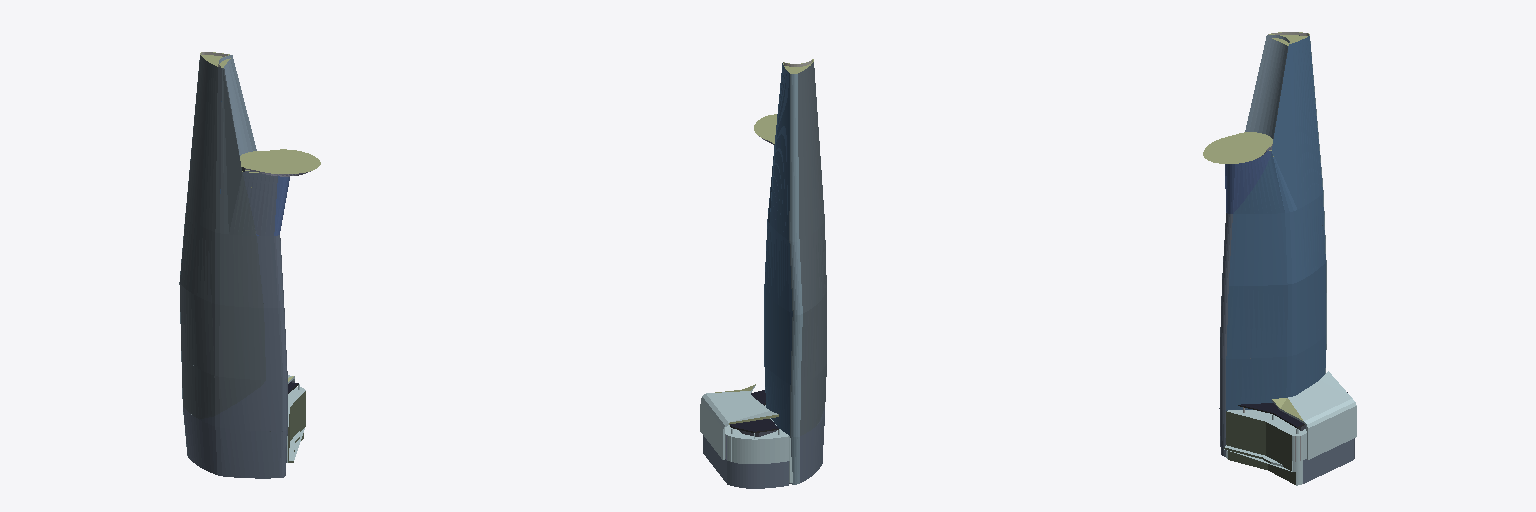
The model's file is New+Bitexco.obj.
3 renders of one model, left to right at view 1: azimuth 30°, elevation 25°; view 2: azimuth 150°, elevation 25°; view 3: azimuth 270°, elevation 25°, orthographic.
Parts seen in each view (by area): view 1: Mesh7 G_7_3_1 Bitexco_Financial_Tower1 Model, Mesh8 G_8_2_1 Bitexco_Financial_Tower1 Model, Mesh11 G_3_1_1 Bitexco_Financial_Tower1 Model, Mesh4 G_4_1_1 Bitexco_Financial_Tower1 Model, Mesh14 G_2_1 Bitexco_Financial_Tower1 Model; view 2: Mesh7 G_7_3_1 Bitexco_Financial_Tower1 Model, Mesh14 G_2_1 Bitexco_Financial_Tower1 Model, Mesh9 G_10_2_1 Bitexco_Financial_Tower1 Model, Mesh6 G_9_2_1 Bitexco_Financial_Tower1 Model, Mesh2 G_6_1_1 Bitexco_Financial_Tower1 Model, Mesh1 G_1_1_1 Bitexco_Financial_Tower1 Model, Mesh8 G_8_2_1 Bitexco_Financial_Tower1 Model, Mesh17 G_2_1 Bitexco_Financial_Tower1 Model; view 3: Mesh6 G_9_2_1 Bitexco_Financial_Tower1 Model, Mesh14 G_2_1 Bitexco_Financial_Tower1 Model, Mesh1 G_1_1_1 Bitexco_Financial_Tower1 Model, Mesh2 G_6_1_1 Bitexco_Financial_Tower1 Model, Mesh11 G_3_1_1 Bitexco_Financial_Tower1 Model, Mesh4 G_4_1_1 Bitexco_Financial_Tower1 Model, Mesh3 G_6_1_1 Bitexco_Financial_Tower1 Model, Mesh8 G_8_2_1 Bitexco_Financial_Tower1 Model.
Part boxes in pixels (x1,y1,x2,y2): Mesh7 G_7_3_1 Bitexco_Financial_Tower1 Model: (180,55,265,418); Mesh8 G_8_2_1 Bitexco_Financial_Tower1 Model: (183,235,287,478); Mesh11 G_3_1_1 Bitexco_Financial_Tower1 Model: (240,149,320,235); Mesh4 G_4_1_1 Bitexco_Financial_Tower1 Model: (219,55,256,155); Mesh14 G_2_1 Bitexco_Financial_Tower1 Model: (191,375,305,462); Mesh7 G_7_3_1 Bitexco_Financial_Tower1 Model: (798,62,826,435); Mesh14 G_2_1 Bitexco_Financial_Tower1 Model: (700,384,792,488); Mesh9 G_10_2_1 Bitexco_Financial_Tower1 Model: (789,74,802,484); Mesh6 G_9_2_1 Bitexco_Financial_Tower1 Model: (764,292,792,435); Mesh2 G_6_1_1 Bitexco_Financial_Tower1 Model: (768,63,789,239); Mesh1 G_1_1_1 Bitexco_Financial_Tower1 Model: (764,219,792,312); Mesh8 G_8_2_1 Bitexco_Financial_Tower1 Model: (800,408,824,482); Mesh17 G_2_1 Bitexco_Financial_Tower1 Model: (730,390,778,432); Mesh6 G_9_2_1 Bitexco_Financial_Tower1 Model: (1226,262,1325,410); Mesh14 G_2_1 Bitexco_Financial_Tower1 Model: (1224,371,1356,485); Mesh1 G_1_1_1 Bitexco_Financial_Tower1 Model: (1229,194,1325,285); Mesh2 G_6_1_1 Bitexco_Financial_Tower1 Model: (1272,36,1322,211); Mesh11 G_3_1_1 Bitexco_Financial_Tower1 Model: (1203,132,1272,213); Mesh4 G_4_1_1 Bitexco_Financial_Tower1 Model: (1245,35,1289,138); Mesh3 G_6_1_1 Bitexco_Financial_Tower1 Model: (1234,151,1289,213); Mesh8 G_8_2_1 Bitexco_Financial_Tower1 Model: (1219,213,1232,456).
Size of the model in its own units: 80.95 by 276 by 95.06.